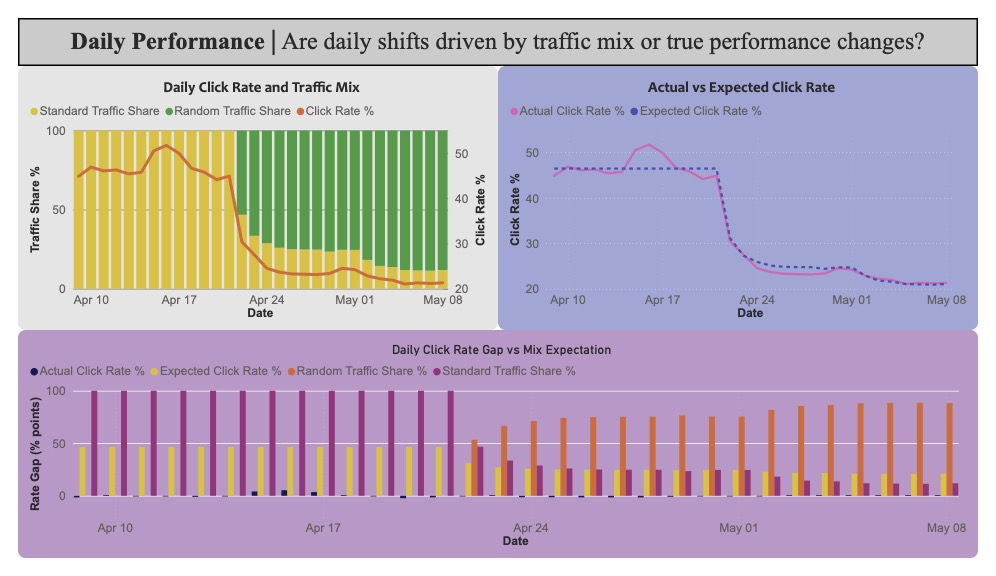

What the dashboard file says about the page in this screenshot:
{"tool":"powerbi","page":{"name":"Daily Performance","canvas":[1280,720],"ordinal":2},"visuals":[{"type":"textbox","box":[0,0,1280,64],"z":0},{"type":"lineStackedColumnComboChart","title":"Daily Click Rate and Traffic Mix","fields":{"Y":["Avg(daily_rate_decomposition.standard_traffic_share_percent)","Avg(daily_rate_decomposition.random_traffic_share_percent)"],"Y2":["Avg(daily_rate_decomposition.click_rate_percent)"],"Category":["daily_rate_decomposition.event_date"]},"box":[0,64,640,352],"z":1000},{"type":"lineChart","title":"Actual vs Expected Click Rate","fields":{"Category":["daily_rate_decomposition.event_date"],"Y":["Avg(daily_rate_decomposition.click_rate_percent)","Avg(daily_rate_decomposition.expected_click_rate_from_traffic_mix_percent)"]},"box":[640,64,640,352],"z":2000},{"type":"clusteredColumnChart","title":"Daily Click Rate Gap vs Mix Expectation","fields":{"Category":["daily_rate_decomposition.event_date"],"Y":["Avg(daily_rate_decomposition.click_rate_gap_vs_mix_expectation_percent_points)","Avg(daily_rate_decomposition.expected_click_rate_from_traffic_mix_percent)","Avg(daily_rate_decomposition.random_traffic_share_percent)","Avg(daily_rate_decomposition.standard_traffic_share_percent)"]},"box":[0,416,1280,304],"z":3000}]}

Visuals, with their boxes in screenshot pixels (x1, y1, x2, y2), scaled from the page's 1280x720 canvas onto the 996x576 screenshot:
textbox: x1=0, y1=0, x2=995, y2=51
"Daily Click Rate and Traffic Mix" lineStackedColumnComboChart: x1=0, y1=51, x2=498, y2=333
"Actual vs Expected Click Rate" lineChart: x1=498, y1=51, x2=995, y2=333
"Daily Click Rate Gap vs Mix Expectation" clusteredColumnChart: x1=0, y1=333, x2=995, y2=575
